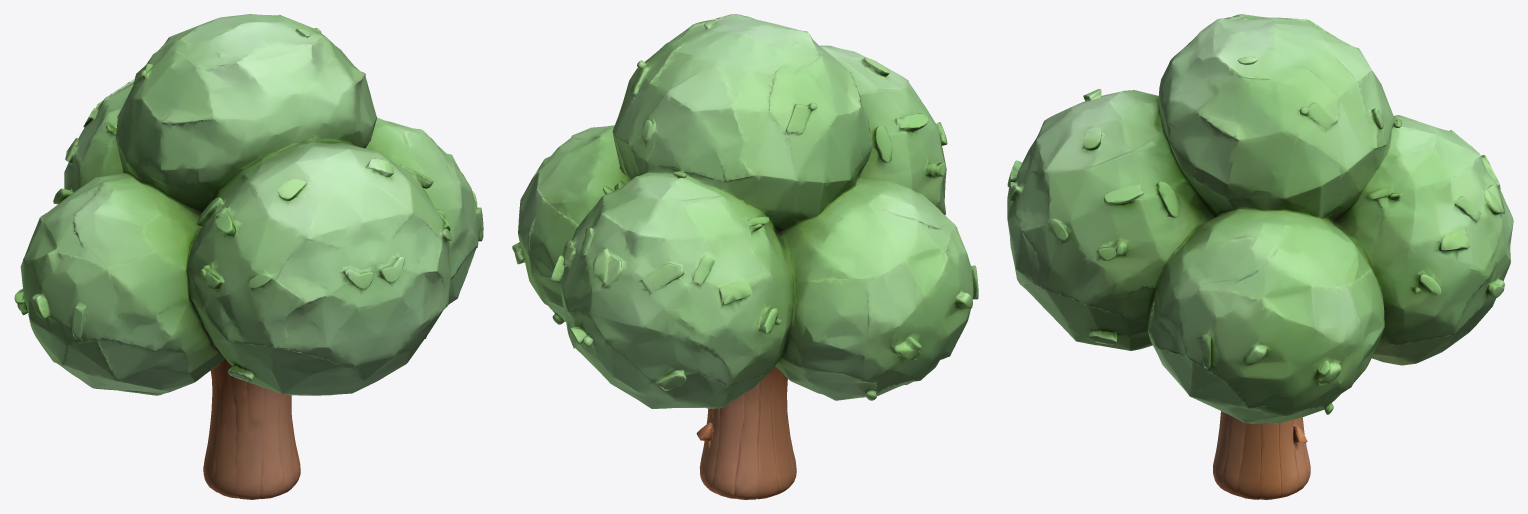
Rendered from tree.glb.
3 views of the same model, side by side, from view 1: azimuth 30°, elevation 25°; view 2: azimuth 150°, elevation 25°; view 3: azimuth 270°, elevation 25° (orthographic).
Visible parts, largest first — view 1: tripo_node_e964fc8d-93ac-4991-996d-59cab4bbe7b8; view 2: tripo_node_e964fc8d-93ac-4991-996d-59cab4bbe7b8; view 3: tripo_node_e964fc8d-93ac-4991-996d-59cab4bbe7b8.
Boxes of the visible parts, x1,y1,x2,y2 form: tripo_node_e964fc8d-93ac-4991-996d-59cab4bbe7b8: (14,14,483,499); tripo_node_e964fc8d-93ac-4991-996d-59cab4bbe7b8: (512,14,978,499); tripo_node_e964fc8d-93ac-4991-996d-59cab4bbe7b8: (1007,14,1513,499).
Bounding box in the file's own units: 1 × 0.998 × 0.9997.
1 material, 1 textured.
